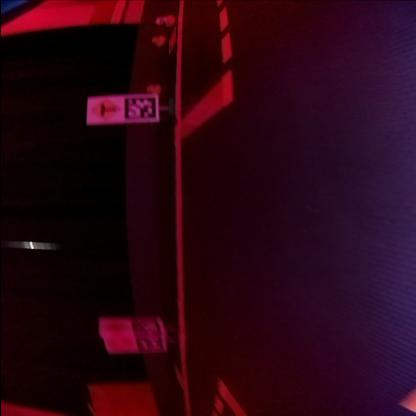Duckie: (154, 16, 174, 28), (146, 84, 158, 95), (152, 36, 164, 46)
Intersection sign: (90, 102, 118, 122), (104, 320, 128, 336)
QR code: (123, 100, 153, 121), (130, 320, 160, 335), (134, 337, 160, 353), (167, 29, 175, 53)
